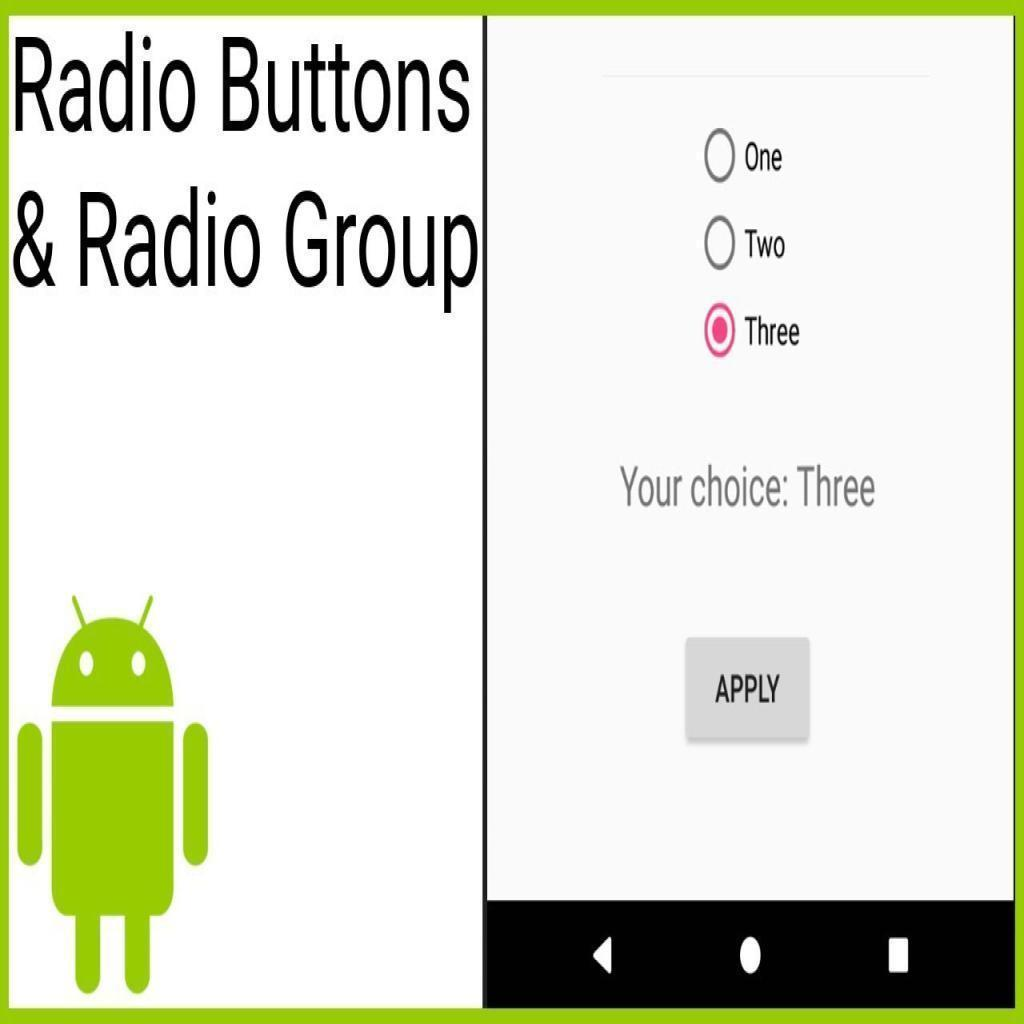button: (685, 636, 813, 742)
radio: (700, 212, 743, 270), (701, 296, 739, 357), (703, 124, 739, 188)
